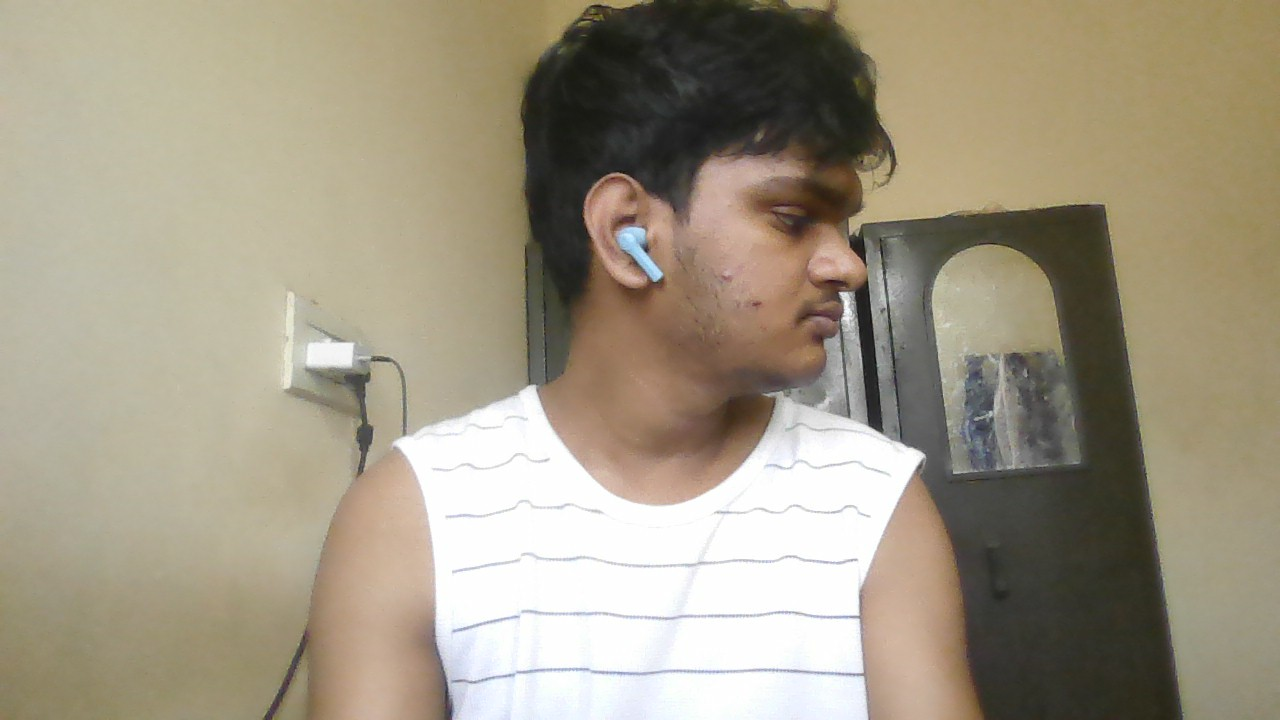earphone: (618, 223, 655, 284)
